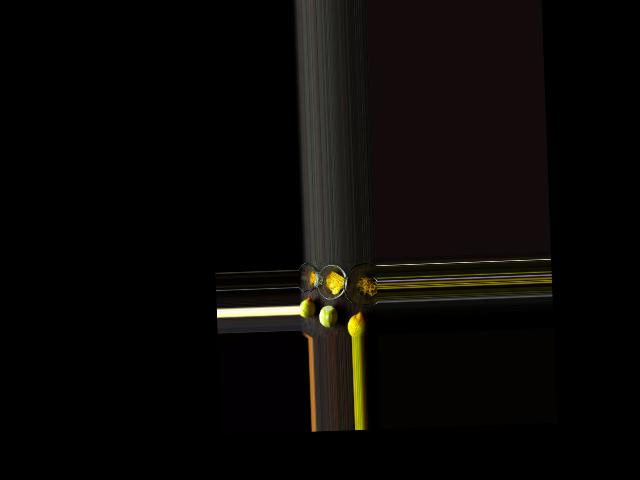lemon: (347, 308, 369, 335)
